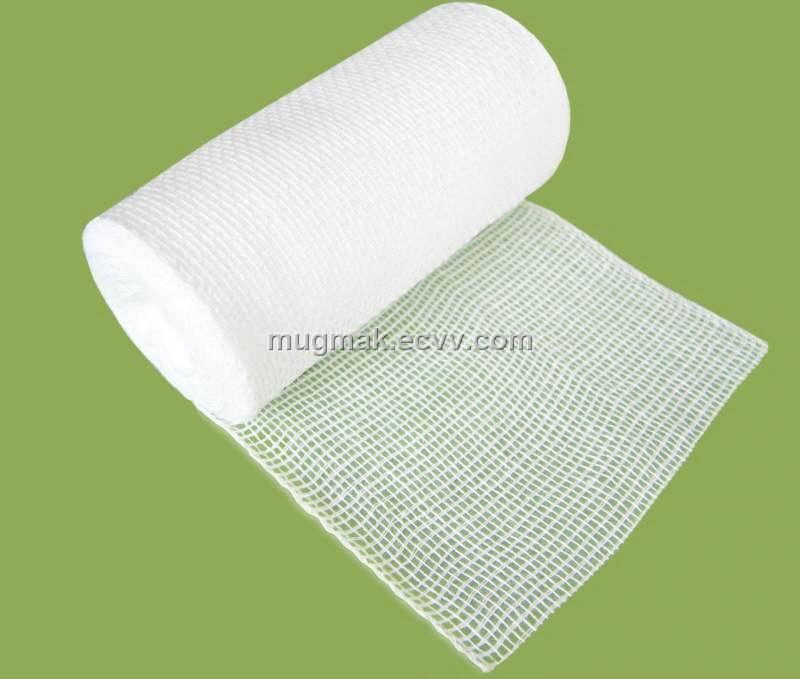bandage: (86, 2, 769, 679)
